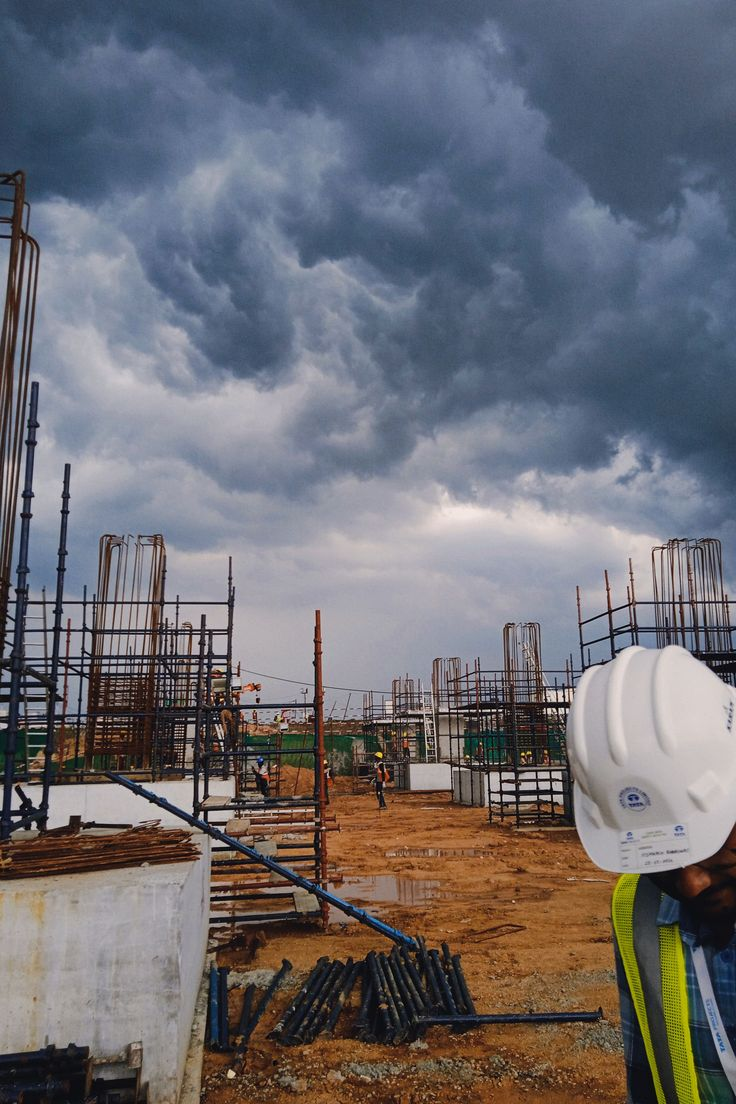hardhat: (534, 637, 717, 900)
person: (517, 635, 723, 1094)
safety_vest: (584, 874, 719, 1081)
